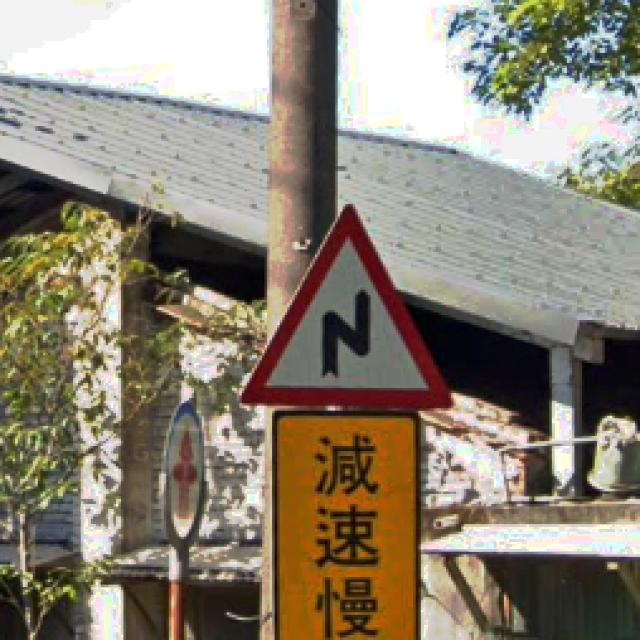doublebendright: (239, 207, 451, 411)
